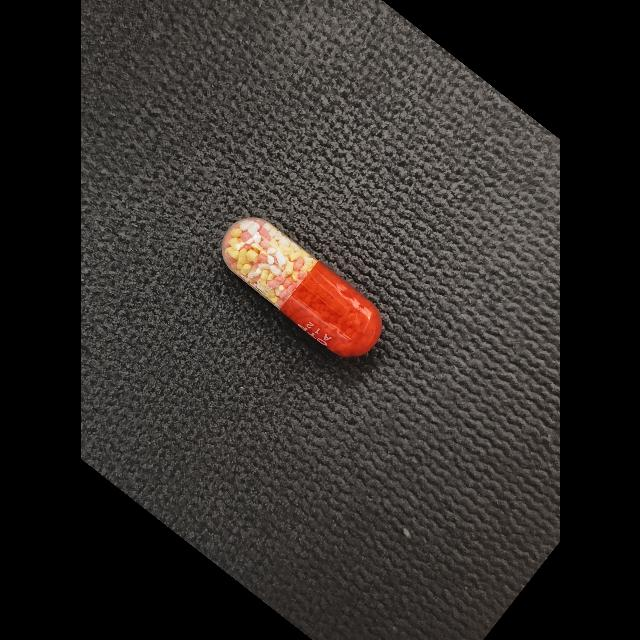Intact Capsule: (221, 217, 381, 357)
